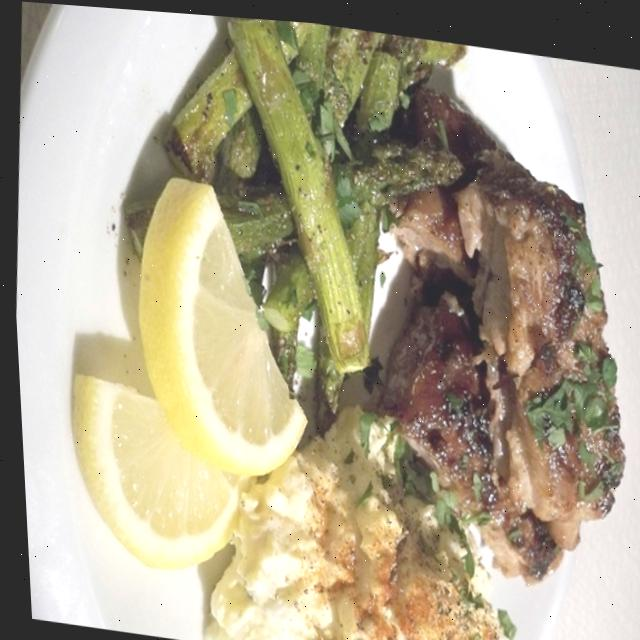猪肉菜式: (40, 18, 640, 640)
